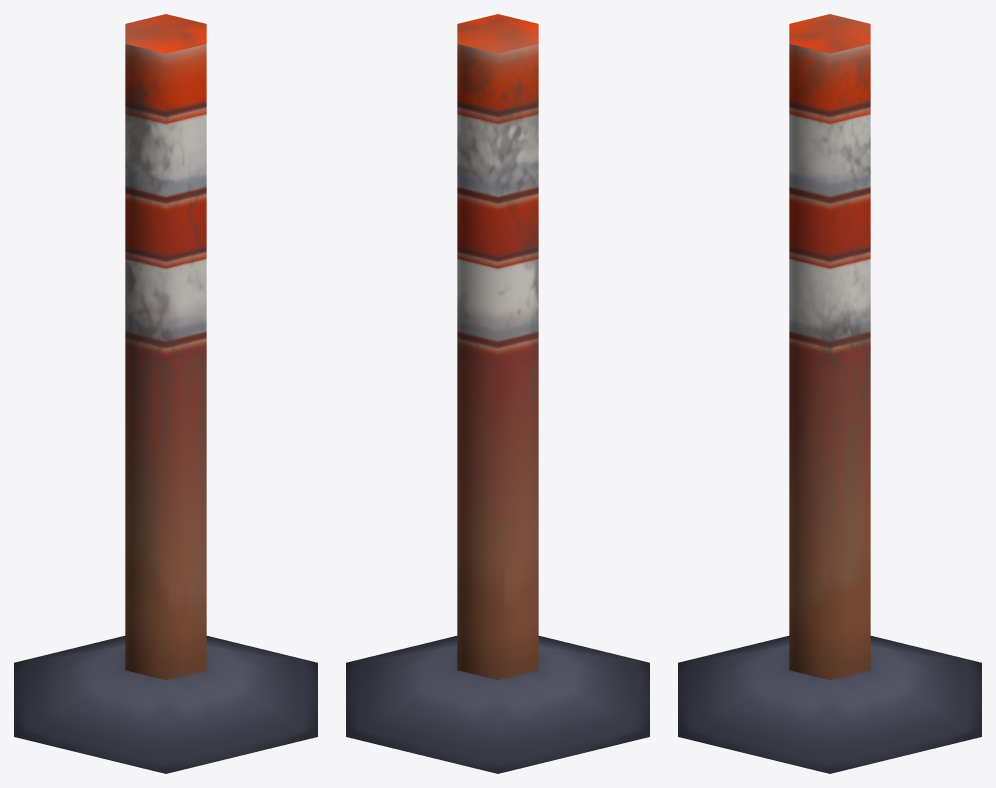
File: trafficCone03.fbx
3 views of the same model, side by side, from view 1: azimuth 30°, elevation 25°; view 2: azimuth 150°, elevation 25°; view 3: azimuth 270°, elevation 25° (orthographic).
Visible parts, largest first — view 1: trafficCone03; view 2: trafficCone03; view 3: trafficCone03.
Boxes of the visible parts, x1,y1,x2,y2 form: trafficCone03: (14,14,317,773); trafficCone03: (346,14,649,773); trafficCone03: (678,14,981,773).
Size of the model in its own units: 44.41 by 93.88 by 38.46.
